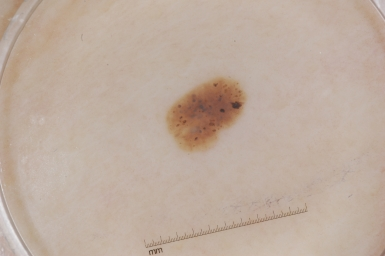seborrheic keratosis: (148, 68, 264, 164)
